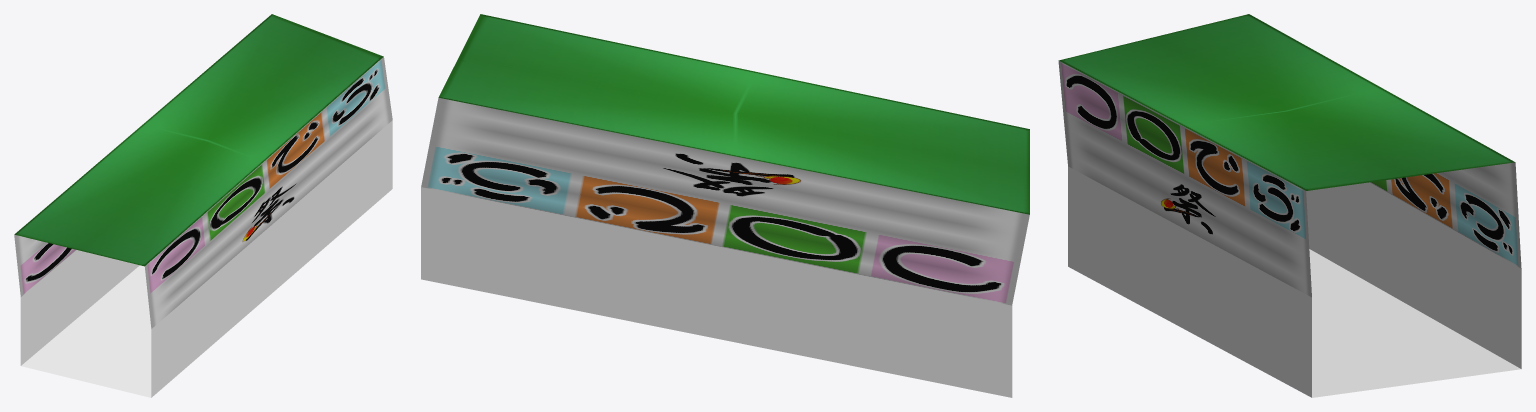
File: CourseWinter_Wall_R_15_10.fbx
3 views of the same model, side by side, from view 1: azimuth 30°, elevation 25°; view 2: azimuth 150°, elevation 25°; view 3: azimuth 270°, elevation 25° (orthographic). The views are drawn at different scales.
Visible parts, largest first — view 1: polySurface580; view 2: polySurface580; view 3: polySurface580.
Part boxes in pixels (x1=…): polySurface580: x1=14, y1=14, x2=392, y2=397; polySurface580: x1=421, y1=14, x2=1029, y2=397; polySurface580: x1=1058, y1=14, x2=1521, y2=397.
Bounding box in the file's own units: 6.1 × 2.98 × 4.18.
1 material, 1 textured.
